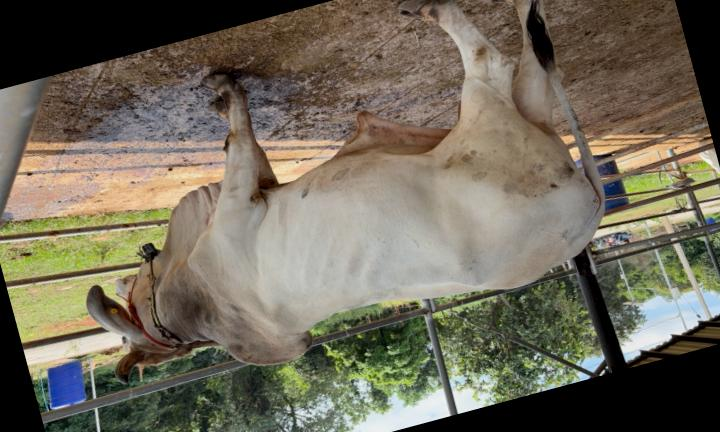Brahman: (87, 0, 605, 382)
